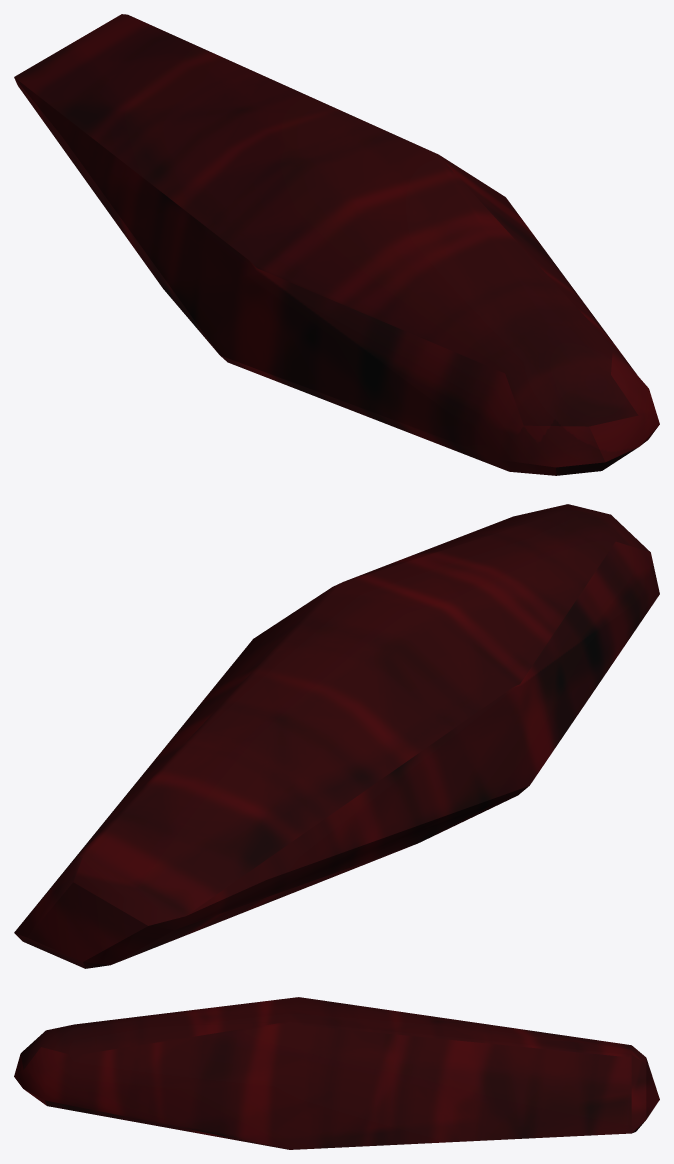
The model's file is bodybag.fbx.
The picture shows the model from 3 angles, top to bottom: view 1: azimuth 30°, elevation 25°; view 2: azimuth 150°, elevation 25°; view 3: azimuth 270°, elevation 25°; orthographic projection. The views are drawn at different scales.
Parts seen in each view (by area): view 1: Icosphere; view 2: Icosphere; view 3: Icosphere.
Boxes of the visible parts, x1,y1,x2,y2 form: Icosphere: (14,14,659,475); Icosphere: (14,504,659,968); Icosphere: (14,997,659,1149).
Bounding box in the file's own units: 359 × 178 × 1048.
